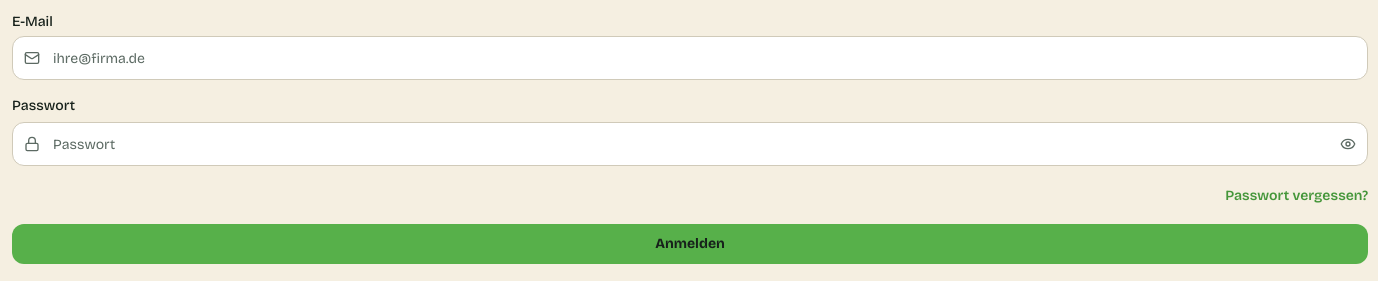
Scenario: LoginForm › toggles to the forgot-password view and back, notifying the parent
Click the button "Passwort vergessen?" at point(1297, 196), box [1225,186,1368,206]
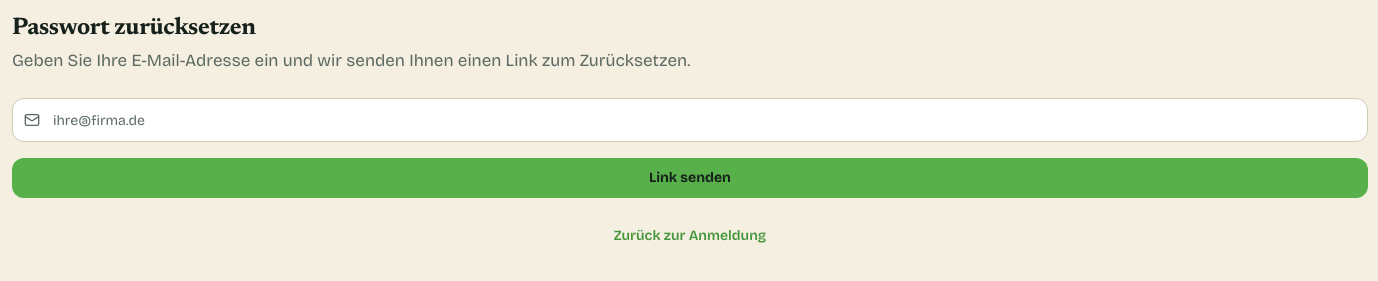
Expected: the button "Anmelden" is gone
Click the button "Zurück zur Anmeldung" at point(690, 236), box [614,226,766,246]
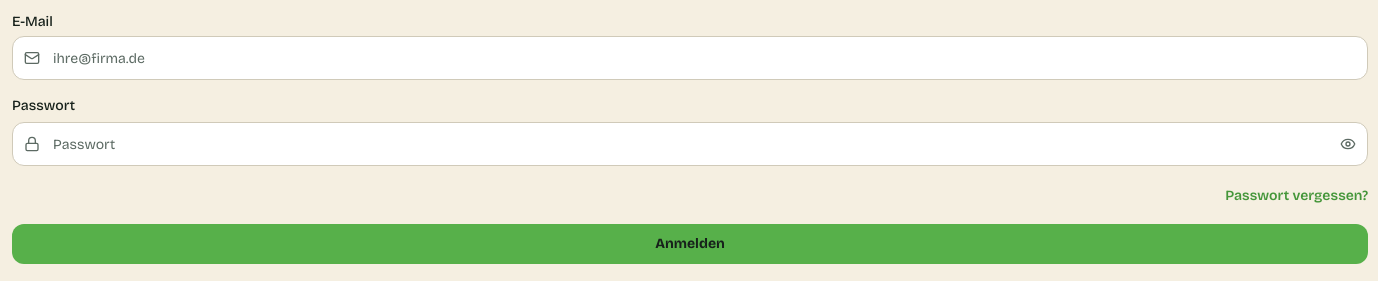
Expected: the button "Anmelden" is shown, [12,224,1368,264]
